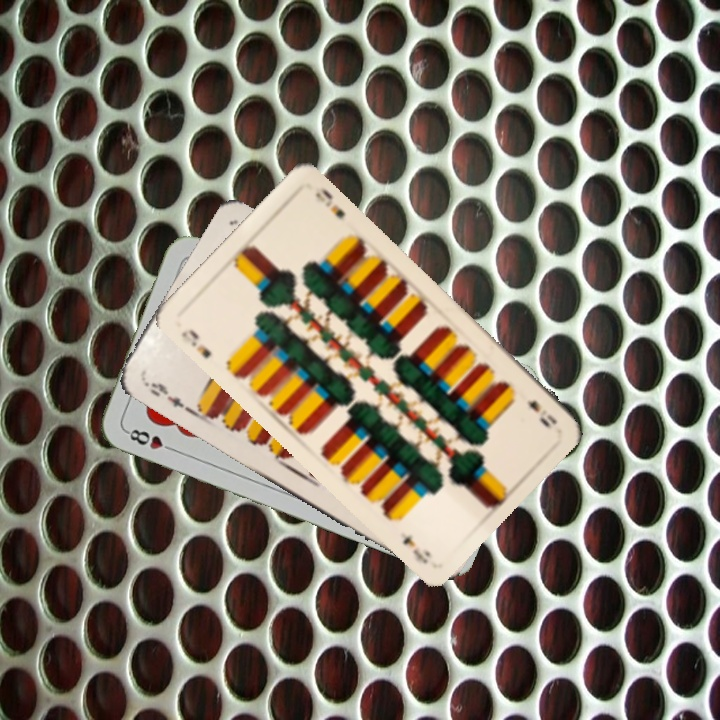E9: (139, 377, 192, 414), (177, 325, 214, 361), (523, 395, 560, 430)
H8: (122, 424, 179, 455)
